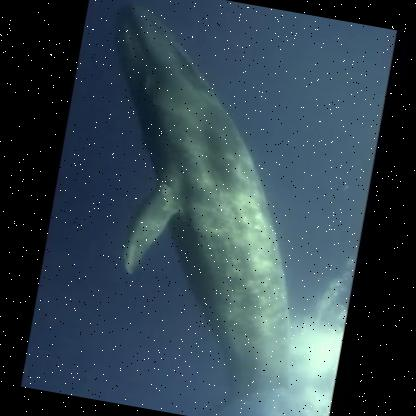blue_whale: (38, 0, 385, 415)
